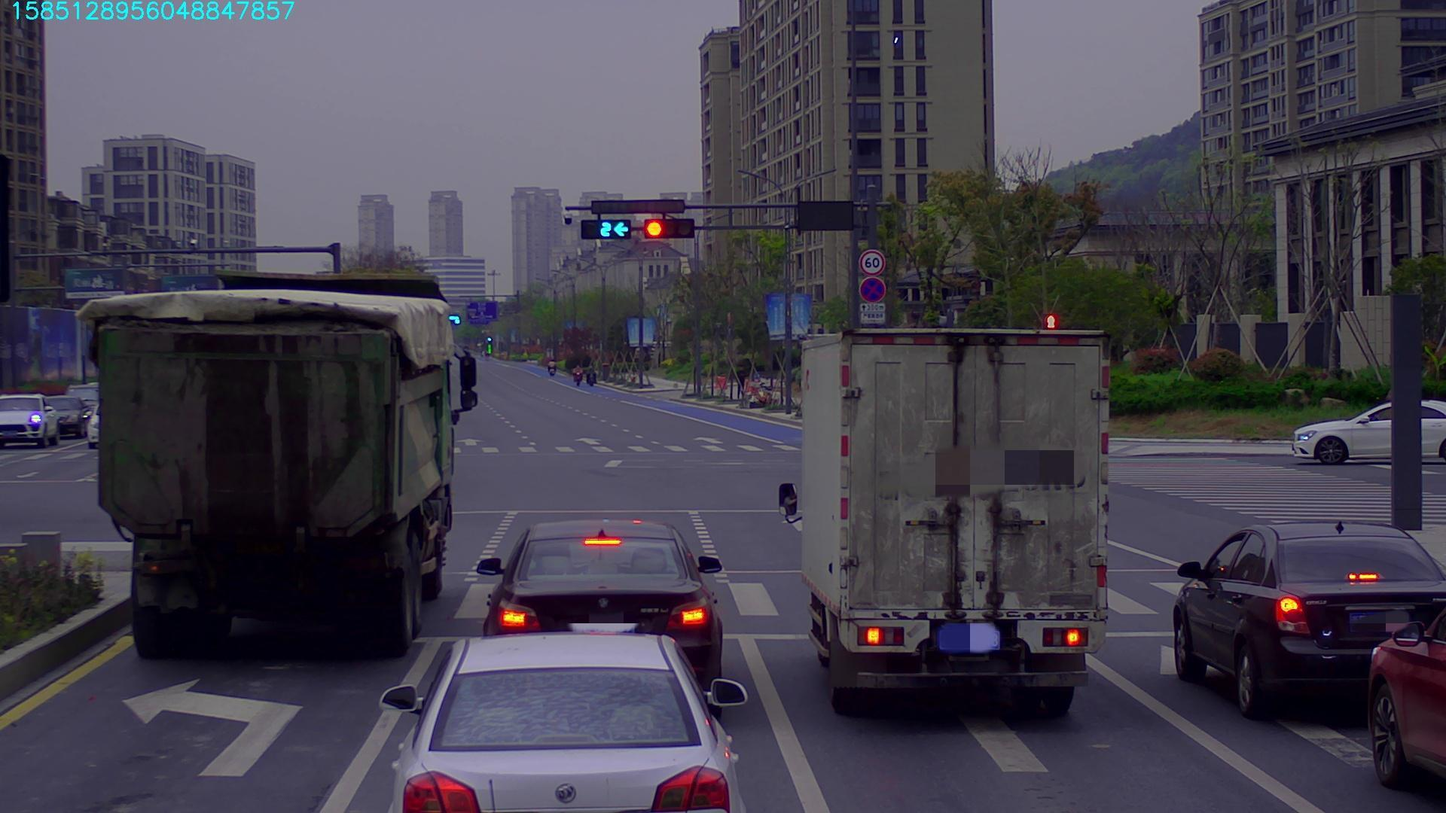green: (581, 215, 636, 239)
red: (642, 219, 696, 239)
